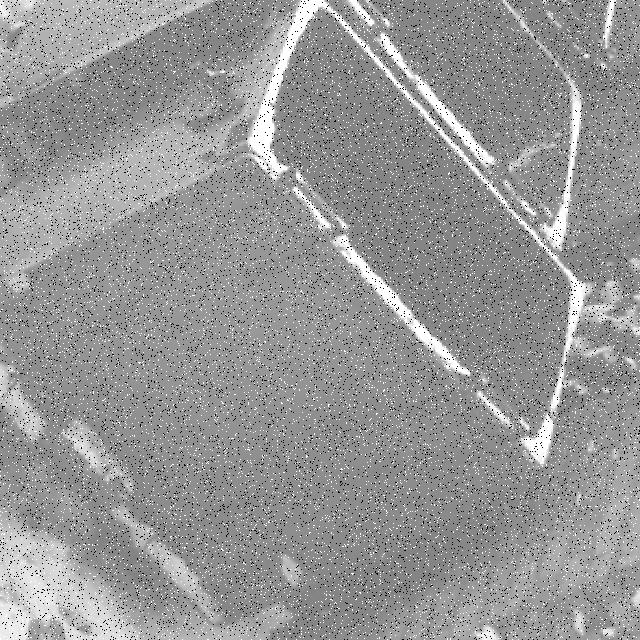Trashcan: (1, 0, 589, 614)
